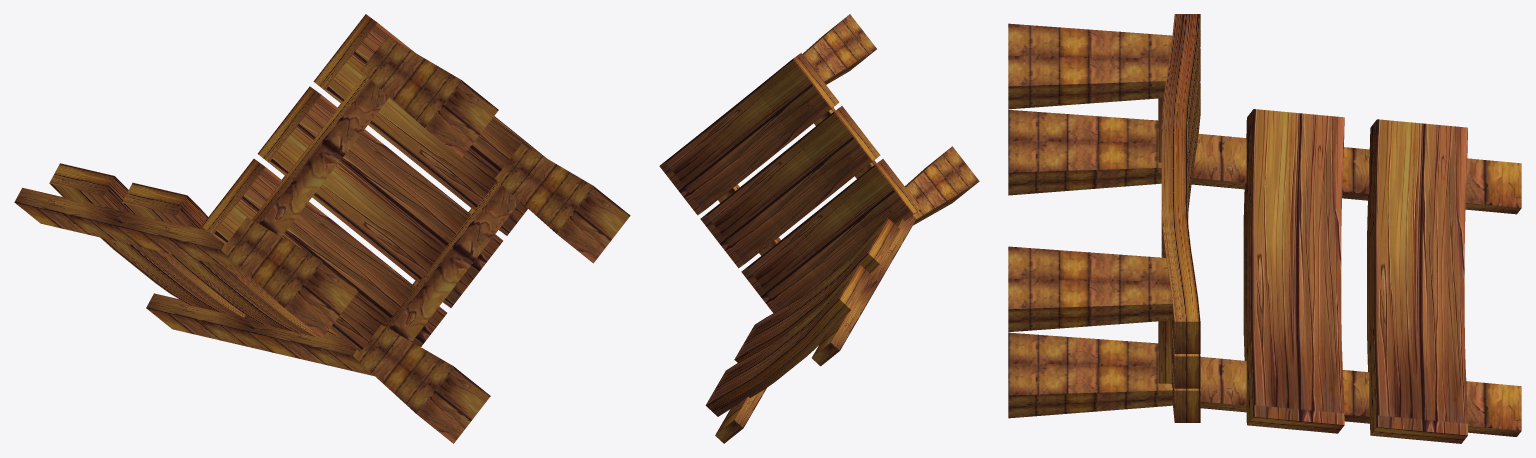
File: Chair.fbx
The picture shows the model from 3 angles, left to right: view 1: azimuth 30°, elevation 25°; view 2: azimuth 150°, elevation 25°; view 3: azimuth 270°, elevation 25°; orthographic projection. The views are drawn at different scales.
Visible parts, largest first — view 1: Chair_Back_01.001; view 2: Chair_Back_01.001; view 3: Chair_Back_01.001.
Part boxes in pixels (left/top/right/bottom): Chair_Back_01.001: left=14, top=14, right=630, bottom=443; Chair_Back_01.001: left=659, top=14, right=979, bottom=443; Chair_Back_01.001: left=1008, top=14, right=1521, bottom=443.
Bounding box in the file's own units: 607 × 607 × 628.
